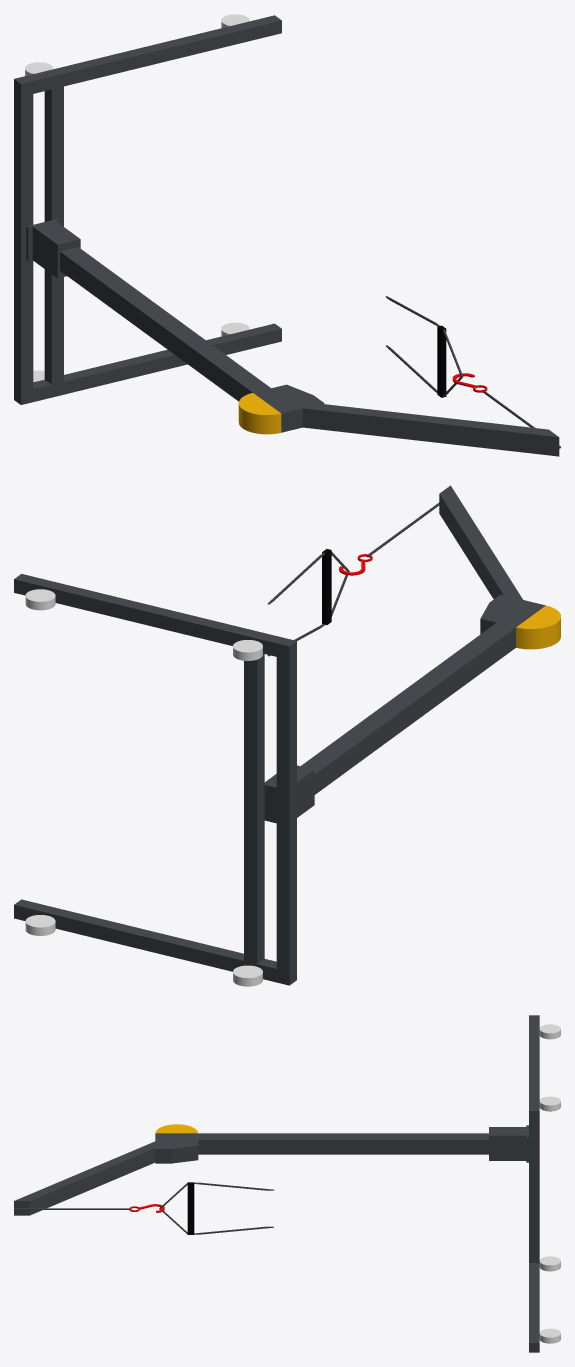
The model's file is Crane2.obj.
3 renders of one model, top to bottom at view 1: azimuth 30°, elevation 25°; view 2: azimuth 150°, elevation 25°; view 3: azimuth 270°, elevation 25°, orthographic. The views are drawn at different scales.
Parts seen in each view (by area): view 1: mesh12, mesh53, mesh39, mesh41, mesh15, mesh14, mesh10, mesh18, mesh62, mesh36, mesh58, mesh37; view 2: mesh13, mesh53, mesh41, mesh15, mesh10, mesh14, mesh18, mesh49, mesh36, mesh62, mesh37; view 3: mesh55, mesh53, mesh49, mesh19, mesh14, mesh59, mesh18, mesh52.
Boxes of the visible parts, x1=… form: mesh12: x1=21, y1=20, x2=281, y2=404; mesh53: x1=60, y1=247, x2=558, y2=437; mesh39: x1=302, y1=408, x2=559, y2=456; mesh41: x1=60, y1=252, x2=252, y2=401; mesh15: x1=14, y1=79, x2=20, y2=404; mesh14: x1=14, y1=15, x2=281, y2=83; mesh10: x1=44, y1=89, x2=51, y2=384; mesh18: x1=64, y1=323, x2=281, y2=381; mesh62: x1=32, y1=227, x2=57, y2=278; mesh36: x1=238, y1=403, x2=281, y2=434; mesh58: x1=31, y1=220, x2=80, y2=244; mesh37: x1=239, y1=393, x2=280, y2=414; mesh13: x1=14, y1=579, x2=289, y2=985; mesh53: x1=301, y1=485, x2=545, y2=774; mesh41: x1=314, y1=627, x2=515, y2=794; mesh15: x1=289, y1=641, x2=296, y2=984; mesh10: x1=257, y1=653, x2=264, y2=963; mesh14: x1=14, y1=574, x2=296, y2=646; mesh18: x1=14, y1=899, x2=243, y2=960; mesh49: x1=439, y1=494, x2=503, y2=598; mesh36: x1=516, y1=618, x2=560, y2=649; mesh62: x1=297, y1=770, x2=314, y2=817; mesh37: x1=516, y1=605, x2=560, y2=628; mesh55: x1=198, y1=1140, x2=488, y2=1154; mesh53: x1=14, y1=1133, x2=488, y2=1200; mesh49: x1=30, y1=1148, x2=155, y2=1215; mesh19: x1=529, y1=1120, x2=539, y2=1262; mesh14: x1=529, y1=1015, x2=539, y2=1110; mesh59: x1=489, y1=1135, x2=526, y2=1160; mesh18: x1=529, y1=1263, x2=539, y2=1342; mesh52: x1=171, y1=1145, x2=198, y2=1163.
Size of the model in its own units: 0.89 by 1 by 2.05.
